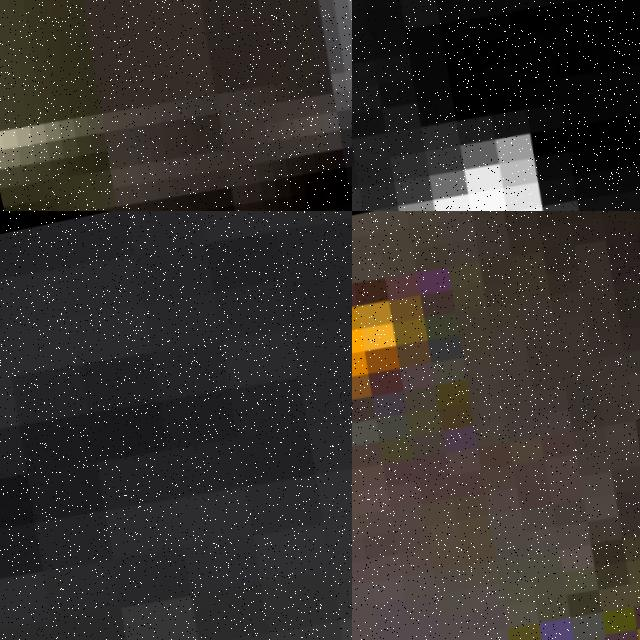0: (0, 0, 352, 211)
drone: (0, 211, 352, 640), (352, 211, 640, 640), (352, 0, 640, 211)
